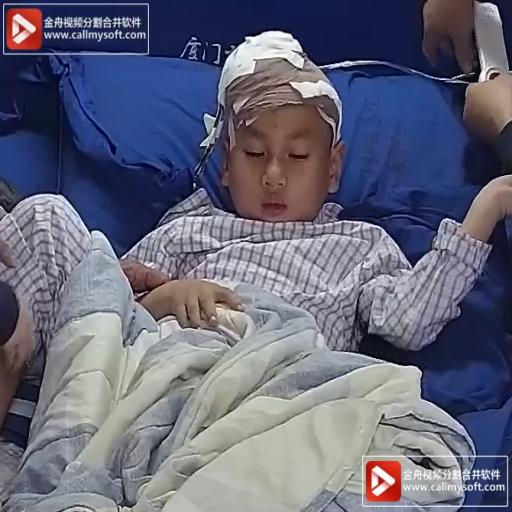Seizure: (200, 39, 349, 231)
